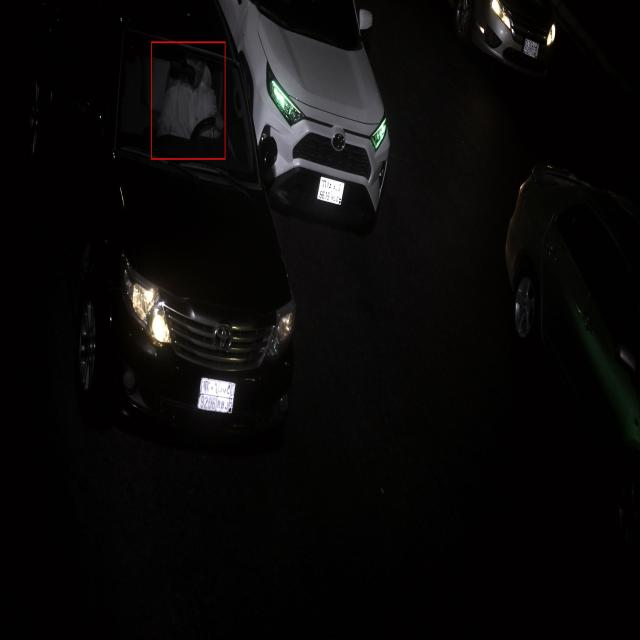windshield: (136, 30, 268, 210), (264, 5, 370, 70)
